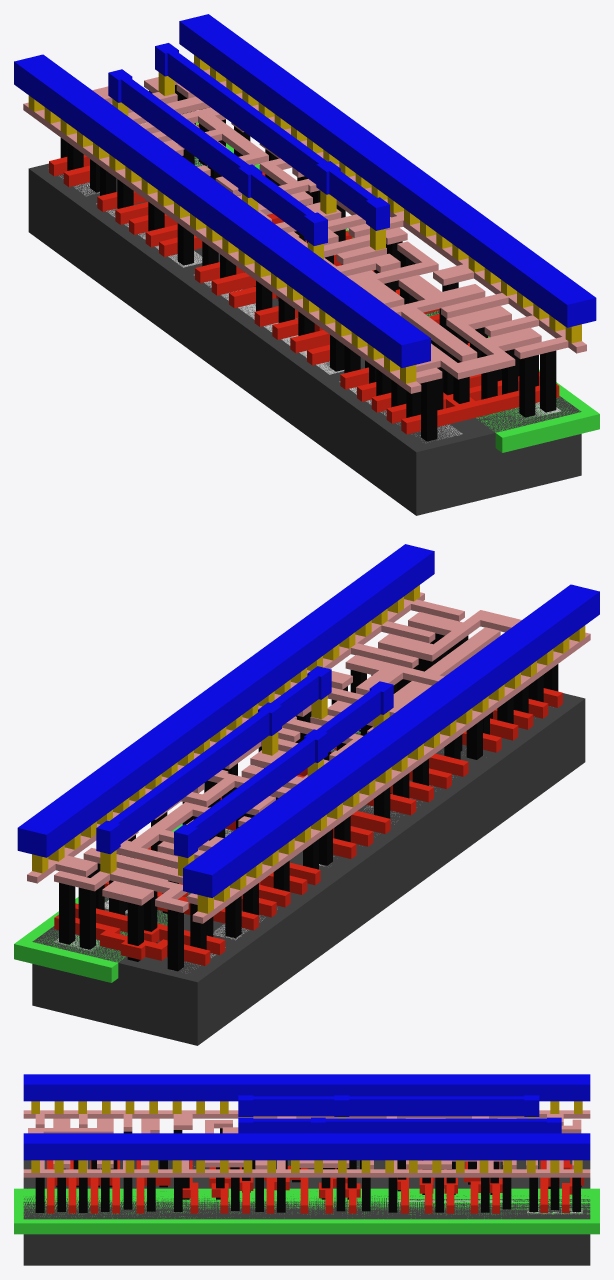
Rendered from sky130_fd_sc_hd__sdfxtp_4.obj.
3 views of the same model, one above another, from view 1: azimuth 30°, elevation 25°; view 2: azimuth 150°, elevation 25°; view 3: azimuth 270°, elevation 25° (orthographic). The views are drawn at different scales.
Parts seen in each view (by area): view 1: metal1, subs, li, licon, poly, mcon, nwell, diff; view 2: metal1, subs, li, licon, poly, mcon, nwell; view 3: metal1, subs, nwell, li, licon, poly, mcon.
Part boxes in pixels (x1,y1,x2,y2): metal1: (14, 14, 596, 367); subs: (28, 156, 581, 515); li: (23, 62, 586, 393); licon: (60, 85, 556, 441); poly: (49, 124, 559, 434); mcon: (28, 55, 581, 383); nwell: (194, 122, 599, 452); diff: (59, 174, 462, 442); metal1: (17, 544, 599, 897); subs: (32, 693, 585, 1045); li: (27, 592, 590, 923); licon: (59, 633, 558, 971); poly: (54, 688, 562, 965); mcon: (32, 585, 585, 913); nwell: (14, 732, 360, 982); metal1: (23, 1074, 590, 1160); subs: (23, 1160, 590, 1265); nwell: (14, 1188, 599, 1234); li: (23, 1110, 590, 1177); licon: (35, 1128, 581, 1212); poly: (47, 1160, 584, 1213); mcon: (31, 1101, 582, 1172).
Bounding box in the file's own units: 3.2 × 2.74 × 11.42.
